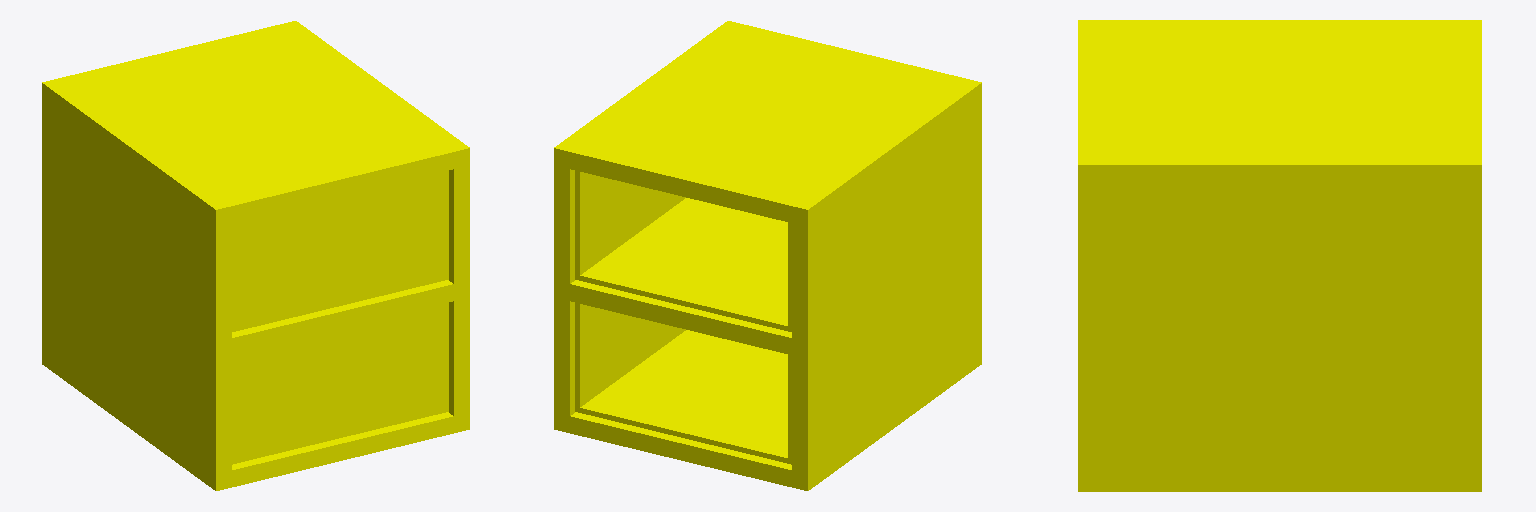
URDF robot description (drawer):
<?xml version="1.0"?>

<robot name="drawer">
  
  <link name="drawer_bottom_1">
    <contact>
      <restitution value="1.0e-8" />
      <!-- <lateral_friction value="1.0"/> -->
      <!-- <rolling_friction value="1.0e+8"/> 
      <spinning_friction value="1.0e+8"/>  -->
      <contact_cfm value="0.00001"/>
      <contact_erp value="0.2"/>
    </contact>
    
    <inertial>
      <origin xyz="0 0 0" />
      <mass value="0.1" />
      <inertia  ixx="1" ixy="0.0"  ixz="0.0"  iyy="1"  iyz="0.0"  izz="1" />
    </inertial>

    <visual>
      <origin xyz="0 0 0"/>
      <geometry>
        <box size="0.145 0.184 0.01"/>
      </geometry>
      <material name="LightBule">
        <color rgba="1. 1. 0. 1.0"/>
      </material>zz
    </visual>

    <collision>
      <origin xyz="0 0 0"/>
      <geometry>
        <box size="0.145 0.184 0.01"/>
      </geometry>
    </collision>

  </link>


  <joint name="0" type="fixed">
    <parent link="drawer_bottom_1"/>
    <child link="drawer_bottom_1_right"/>
    <origin rpy="0 0 0" xyz="0.0725 0.0 0.077" />
  </joint>



  <link name="drawer_bottom_1_right">
    <contact>
      <restitution value="1.0e-8" />
      <!-- <lateral_friction value="1.0"/> -->
      <!-- <rolling_friction value="1.0e+8"/> 
      <spinning_friction value="1.0e+8"/>  -->
      <contact_cfm value="0.00001"/>
      <contact_erp value="0.2"/>
    </contact>
    
    <inertial>
      <origin xyz="0 0 0" />
      <mass value="0.1" />
      <inertia  ixx="1" ixy="0.0"  ixz="0.0"  iyy="1"  iyz="0.0"  izz="1" />
    </inertial>

    <visual>
      <origin xyz="0 0 0"/>
      <geometry>
        <box size="0.01 0.184 0.164"/>
      </geometry>
      <material name="LightBule">
        <color rgba="1. 1. 0. 1.0"/>
      </material>zz
    </visual>

    <collision>
      <origin xyz="0 0 0"/>
      <geometry>
        <box size="0.01 0.184 0.164"/>
      </geometry>
    </collision>

  </link>


  <joint name="1" type="fixed">
    <parent link="drawer_bottom_1"/>
    <child link="drawer_bottom_1_left"/>
    <origin rpy="0 0 0" xyz="-0.0725 0.0 0.077" />
  </joint>


  <link name="drawer_bottom_1_left">
    <contact>
      <restitution value="1.0e-8" />
      <!-- <lateral_friction value="1.0"/> -->
      <!-- <rolling_friction value="1.0e+8"/> 
      <spinning_friction value="1.0e+8"/>  -->
      <contact_cfm value="0.00001"/>
      <contact_erp value="0.2"/>
    </contact>
    
    <inertial>
      <origin xyz="0 0 0" />
      <mass value="0.1" />
      <inertia  ixx="1" ixy="0.0"  ixz="0.0"  iyy="1"  iyz="0.0"  izz="1" />
    </inertial>

    <visual>
      <origin xyz="0 0 0"/>
      <geometry>
        <box size="0.01 0.184 0.164"/>
      </geometry>
      <material name="LightBule">
        <color rgba="1. 1. 0. 1.0"/>
      </material>zz
    </visual>

    <collision>
      <origin xyz="0 0 0"/>
      <geometry>
        <box size="0.01 0.184 0.164"/>
      </geometry>
    </collision>

  </link>


  <joint name="2" type="fixed">
    <parent link="drawer_bottom_1"/>
    <child link="drawer_bottom_1_top"/>
    <origin rpy="0 0 0" xyz="0 0.0 0.154" />
  </joint>


  <link name="drawer_bottom_1_top">
    <contact>
      <restitution value="1.0e-8" />
      <!-- <lateral_friction value="1.0"/> -->
      <!-- <rolling_friction value="1.0e+8"/> 
      <spinning_friction value="1.0e+8"/>  -->
      <contact_cfm value="0.00001"/>
      <contact_erp value="0.2"/>
    </contact>
    
    <inertial>
      <origin xyz="0 0 0" />
      <mass value="0.1" />
      <inertia  ixx="1" ixy="0.0"  ixz="0.0"  iyy="1"  iyz="0.0"  izz="1" />
    </inertial>

    <visual>
      <origin xyz="0 0 0"/>
      <geometry>
        <box size="0.145 0.184 0.01"/>
      </geometry>
      <material name="LightBule">
        <color rgba="1. 1. 0. 1.0"/>
      </material>zz
    </visual>

    <collision>
      <origin xyz="0 0 0"/>
      <geometry>
        <box size="0.145 0.184 0.01"/>
      </geometry>
    </collision>

  </link>

  <joint name="3" type="fixed">
    <parent link="drawer_bottom_1"/>
    <child link="drawer_bottom_1_mid"/>
    <origin rpy="0 0 0" xyz="0 0.0 0.077" />
  </joint>


  <link name="drawer_bottom_1_mid">
    <contact>
      <restitution value="1.0e-8" />
      <!-- <lateral_friction value="1.0"/> -->
      <!-- <rolling_friction value="1.0e+8"/> 
      <spinning_friction value="1.0e+8"/>  -->
      <contact_cfm value="0.00001"/>
      <contact_erp value="0.2"/>
    </contact>
    
    <inertial>
      <origin xyz="0 0 0" />
      <mass value="0.1" />
      <inertia  ixx="1" ixy="0.0"  ixz="0.0"  iyy="1"  iyz="0.0"  izz="1" />
    </inertial>

    <visual>
      <origin xyz="0 0 0"/>
      <geometry>
        <box size="0.145 0.184 0.01"/>
      </geometry>
      <material name="LightBule">
        <color rgba="1. 1. 0. 1.0"/>
      </material>zz
    </visual>

    <collision>
      <origin xyz="0 0 0"/>
      <geometry>
        <box size="0.145 0.184 0.01"/>
      </geometry>
    </collision>

  </link>

  <joint name="4" type="prismatic">
    <parent link="drawer_bottom_1_mid"/>
    <child link="drawer_bottom_1_mid_flat"/>
    <origin rpy="0 0 0" xyz="0 -0.0 0.008" />
    <axis xyz ="0 -1 0" />
    <limit lower="0" upper="0.12" effort="0.0" velocity="3.15"/>
  </joint>


  <link name="drawer_bottom_1_mid_flat">
    <contact>
      <restitution value="1.0e-8" />
      <!-- <lateral_friction value="1.0"/> -->
      <!-- <rolling_friction value="1.0e+8"/> 
      <spinning_friction value="1.0e+8"/>  -->
      <contact_cfm value="0.00001"/>
      <contact_erp value="0.2"/>
    </contact>
    
    <inertial>
      <origin xyz="0 0 0" />
      <mass value="0.1" />
      <inertia  ixx="1" ixy="0.0"  ixz="0.0"  iyy="1"  iyz="0.0"  izz="1" />
    </inertial>

    <visual>
      <origin xyz="0 0 0"/>
      <geometry>
        <box size="0.127 0.177 0.003"/>
      </geometry>
      <material name="LightBule">
        <color rgba="1. 1. 0. 1.0"/>
      </material>zz
    </visual>

    <collision>
      <origin xyz="0 0 0"/>
      <geometry>
        <box size="0.127 0.177 0.003"/>
      </geometry>
    </collision>

  </link>

  <joint name="5" type="fixed">
    <parent link="drawer_bottom_1_mid_flat"/>
    <child link="drawer_bottom_1_mid_flat_right"/>
    <origin rpy="0 0 0" xyz="0.065 0.0 0.031" />
  </joint>


  <link name="drawer_bottom_1_mid_flat_right">
    <contact>
      <restitution value="1.0e-8" />
      <!-- <lateral_friction value="1.0"/> -->
      <!-- <rolling_friction value="1.0e+8"/> 
      <spinning_friction value="1.0e+8"/>  -->
      <contact_cfm value="0.00001"/>
      <contact_erp value="0.2"/>
    </contact>
    
    <inertial>
      <origin xyz="0 0 0" />
      <mass value="0.1" />
      <inertia  ixx="1" ixy="0.0"  ixz="0.0"  iyy="1"  iyz="0.0"  izz="1" />
    </inertial>

    <visual>
      <origin xyz="0 0 0"/>
      <geometry>
        <box size="0.003 0.177 0.065"/>
      </geometry>
      <material name="LightBule">
        <color rgba="1. 1. 0. 1.0"/>
      </material>zz
    </visual>

    <collision>
      <origin xyz="0 0 0"/>
      <geometry>
        <box size="0.003 0.177 0.065"/>
      </geometry>
    </collision>

  </link>

  <joint name="6" type="fixed">
    <parent link="drawer_bottom_1_mid_flat"/>
    <child link="drawer_bottom_1_mid_flat_left"/>
    <origin rpy="0 0 0" xyz="-0.065 0.0 0.031" />
  </joint>

  <link name="drawer_bottom_1_mid_flat_left">
    <contact>
      <restitution value="1.0e-8" />
      <!-- <lateral_friction value="1.0"/> -->
      <!-- <rolling_friction value="1.0e+8"/> 
      <spinning_friction value="1.0e+8"/>  -->
      <contact_cfm value="0.00001"/>
      <contact_erp value="0.2"/>
    </contact>
    
    <inertial>
      <origin xyz="0 0 0" />
      <mass value="0.1" />
      <inertia  ixx="1" ixy="0.0"  ixz="0.0"  iyy="1"  iyz="0.0"  izz="1" />
    </inertial>

    <visual>
      <origin xyz="0 0 0"/>
      <geometry>
        <box size="0.003 0.177 0.065"/>
      </geometry>
      <material name="LightBule">
        <color rgba="1. 1. 0. 1.0"/>
      </material>zz
    </visual>

    <collision>
      <origin xyz="0 0 0"/>
      <geometry>
        <box size="0.003 0.177 0.065"/>
      </geometry>
    </collision>

  </link>

  <joint name="7" type="fixed">
    <parent link="drawer_bottom_1_mid_flat"/>
    <child link="drawer_bottom_1_mid_flat_front"/>
    <origin rpy="0 0 0" xyz="0 -0.087 0.031" />
  </joint>

  <link name="drawer_bottom_1_mid_flat_front">
    <contact>
      <restitution value="1.0e-8" />
      <!-- <lateral_friction value="1.0"/> -->
      <!-- <rolling_friction value="1.0e+8"/> 
      <spinning_friction value="1.0e+8"/>  -->
      <contact_cfm value="0.00001"/>
      <contact_erp value="0.2"/>
    </contact>
    
    <inertial>
      <origin xyz="0 0 0" />
      <mass value="0.1" />
      <inertia  ixx="1" ixy="0.0"  ixz="0.0"  iyy="1"  iyz="0.0"  izz="1" />
    </inertial>

    <visual>
      <origin xyz="0 0 0"/>
      <geometry>
        <box size="0.127 0.003 0.065"/>
      </geometry>
      <material name="LightBule">
        <color rgba="1. 1. 0. 1.0"/>
      </material>zz
    </visual>

    <collision>
      <origin xyz="0 0 0"/>
      <geometry>
        <box size="0.127 0.003 0.065"/>
      </geometry>
    </collision>

  </link>


  <joint name="8" type="prismatic">
    <parent link="drawer_bottom_1"/>
    <child link="drawer_bottom_1_bottom_flat"/>
    <origin rpy="0 0 0" xyz="0 0.0 0.008" />
    <axis xyz ="0 -1 0" />
    <limit lower="0" upper="0.12" effort="0.0" velocity="3.15"/>
  </joint>


  <link name="drawer_bottom_1_bottom_flat">
    <contact>
      <restitution value="1.0e-8" />
      <!-- <lateral_friction value="1.0"/> -->
      <!-- <rolling_friction value="1.0e+8"/> 
      <spinning_friction value="1.0e+8"/>  -->
      <contact_cfm value="0.00001"/>
      <contact_erp value="0.2"/>
    </contact>
    
    <inertial>
      <origin xyz="0 0 0" />
      <mass value="0.1" />
      <inertia  ixx="1" ixy="0.0"  ixz="0.0"  iyy="1"  iyz="0.0"  izz="1" />
    </inertial>

    <visual>
      <origin xyz="0 0 0"/>
      <geometry>
        <box size="0.127 0.177 0.003"/>
      </geometry>
      <material name="LightBule">
        <color rgba="1. 1. 0. 1.0"/>
      </material>zz
    </visual>

    <collision>
      <origin xyz="0 0 0"/>
      <geometry>
        <box size="0.127 0.177 0.003"/>
      </geometry>
    </collision>

  </link>

  <joint name="9" type="fixed">
    <parent link="drawer_bottom_1_bottom_flat"/>
    <child link="drawer_bottom_1_bottom_flat_right"/>
    <origin rpy="0 0 0" xyz="0.065 0.0 0.031" />
  </joint>


  <link name="drawer_bottom_1_bottom_flat_right">
    <contact>
      <restitution value="1.0e-8" />
      <!-- <lateral_friction value="1.0"/> -->
      <!-- <rolling_friction value="1.0e+8"/> 
      <spinning_friction value="1.0e+8"/>  -->
      <contact_cfm value="0.00001"/>
      <contact_erp value="0.2"/>
    </contact>
    
    <inertial>
      <origin xyz="0 0 0" />
      <mass value="0.1" />
      <inertia  ixx="1" ixy="0.0"  ixz="0.0"  iyy="1"  iyz="0.0"  izz="1" />
    </inertial>

    <visual>
      <origin xyz="0 0 0"/>
      <geometry>
        <box size="0.003 0.177 0.065"/>
      </geometry>
      <material name="LightBule">
        <color rgba="1. 1. 0. 1.0"/>
      </material>zz
    </visual>

    <collision>
      <origin xyz="0 0 0"/>
      <geometry>
        <box size="0.003 0.177 0.065"/>
      </geometry>
    </collision>

  </link>

  <joint name="10" type="fixed">
    <parent link="drawer_bottom_1_bottom_flat"/>
    <child link="drawer_bottom_1_bottom_flat_left"/>
    <origin rpy="0 0 0" xyz="-0.065 0.0 0.031" />
  </joint>

  <link name="drawer_bottom_1_bottom_flat_left">
    <contact>
      <restitution value="1.0e-8" />
      <!-- <lateral_friction value="1.0"/> -->
      <!-- <rolling_friction value="1.0e+8"/> 
      <spinning_friction value="1.0e+8"/>  -->
      <contact_cfm value="0.00001"/>
      <contact_erp value="0.2"/>
    </contact>
    
    <inertial>
      <origin xyz="0 0 0" />
      <mass value="0.1" />
      <inertia  ixx="1" ixy="0.0"  ixz="0.0"  iyy="1"  iyz="0.0"  izz="1" />
    </inertial>

    <visual>
      <origin xyz="0 0 0"/>
      <geometry>
        <box size="0.003 0.177 0.065"/>
      </geometry>
      <material name="LightBule">
        <color rgba="1. 1. 0. 1.0"/>
      </material>zz
    </visual>

    <collision>
      <origin xyz="0 0 0"/>
      <geometry>
        <box size="0.003 0.177 0.065"/>
      </geometry>
    </collision>

  </link>

  <joint name="11" type="fixed">
    <parent link="drawer_bottom_1_bottom_flat"/>
    <child link="drawer_bottom_1_bottom_flat_front"/>
    <origin rpy="0 0 0" xyz="0 -0.087 0.031" />
  </joint>

  <link name="drawer_bottom_1_bottom_flat_front">
    <contact>
      <restitution value="1.0e-8" />
      <!-- <lateral_friction value="1.0"/> -->
      <!-- <rolling_friction value="1.0e+8"/> 
      <spinning_friction value="1.0e+8"/>  -->
      <contact_cfm value="0.00001"/>
      <contact_erp value="0.2"/>
    </contact>
    
    <inertial>
      <origin xyz="0 0 0" />
      <mass value="0.1" />
      <inertia  ixx="1" ixy="0.0"  ixz="0.0"  iyy="1"  iyz="0.0"  izz="1" />
    </inertial>

    <visual>
      <origin xyz="0 0 0"/>
      <geometry>
        <box size="0.127 0.003 0.065"/>
      </geometry>
      <material name="LightBule">
        <color rgba="1. 1. 0. 1.0"/>
      </material>zz
    </visual>

    <collision>
      <origin xyz="0 0 0"/>
      <geometry>
        <box size="0.127 0.003 0.065"/>
      </geometry>
    </collision>

  </link>



</robot>

--- What the picture shows (computed from the rendered views, not written in the file) ---
The picture shows the robot from 3 angles, left to right: view 1: azimuth 30°, elevation 25°; view 2: azimuth 150°, elevation 25°; view 3: azimuth 270°, elevation 25°; orthographic projection.
Robot: drawer — 13 links, 12 joints (2 prismatic, 10 fixed); root link drawer_bottom_1; default pose: every joint at zero.
Links seen in each view (by area): view 1: drawer_bottom_1_left, drawer_bottom_1_top, drawer_bottom_1_bottom_flat_front, drawer_bottom_1_mid_flat_front, drawer_bottom_1_right, drawer_bottom_1, drawer_bottom_1_mid, drawer_bottom_1_mid_flat, drawer_bottom_1_bottom_flat, drawer_bottom_1_mid_flat_right, drawer_bottom_1_bottom_flat_right; view 2: drawer_bottom_1_left, drawer_bottom_1_top, drawer_bottom_1_mid_flat, drawer_bottom_1_bottom_flat, drawer_bottom_1_right, drawer_bottom_1_mid_flat_right, drawer_bottom_1_bottom_flat_right, drawer_bottom_1, drawer_bottom_1_mid; view 3: drawer_bottom_1_right, drawer_bottom_1_top, drawer_bottom_1_left.
Boxes of the visible links, x1,y1,x2,y2 form: drawer_bottom_1_left: [42, 79, 231, 490]; drawer_bottom_1_top: [58, 25, 457, 224]; drawer_bottom_1_bottom_flat_front: [236, 304, 443, 463]; drawer_bottom_1_mid_flat_front: [236, 172, 443, 330]; drawer_bottom_1_right: [280, 21, 469, 432]; drawer_bottom_1: [224, 412, 453, 488]; drawer_bottom_1_mid: [224, 280, 457, 356]; drawer_bottom_1_mid_flat: [236, 276, 443, 330]; drawer_bottom_1_bottom_flat: [236, 408, 443, 462]; drawer_bottom_1_mid_flat_right: [444, 170, 448, 280]; drawer_bottom_1_bottom_flat_right: [444, 303, 448, 412]; drawer_bottom_1_left: [792, 79, 981, 490]; drawer_bottom_1_top: [570, 25, 965, 224]; drawer_bottom_1_mid_flat: [580, 198, 787, 330]; drawer_bottom_1_bottom_flat: [580, 330, 787, 463]; drawer_bottom_1_right: [554, 21, 743, 432]; drawer_bottom_1_mid_flat_right: [575, 170, 685, 280]; drawer_bottom_1_bottom_flat_right: [575, 303, 685, 412]; drawer_bottom_1: [570, 412, 799, 488]; drawer_bottom_1_mid: [570, 280, 799, 355]; drawer_bottom_1_right: [1078, 155, 1481, 491]; drawer_bottom_1_top: [1078, 30, 1481, 154]; drawer_bottom_1_left: [1078, 20, 1481, 29].
Size in the robot's own frame: 0.155 by 0.184 by 0.164 metres.
Geometry: primitives only (box / cylinder / sphere), no mesh files.